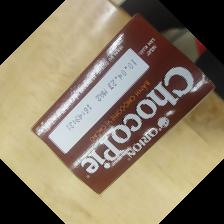Chocopie_cacao: (27, 13, 214, 197)
